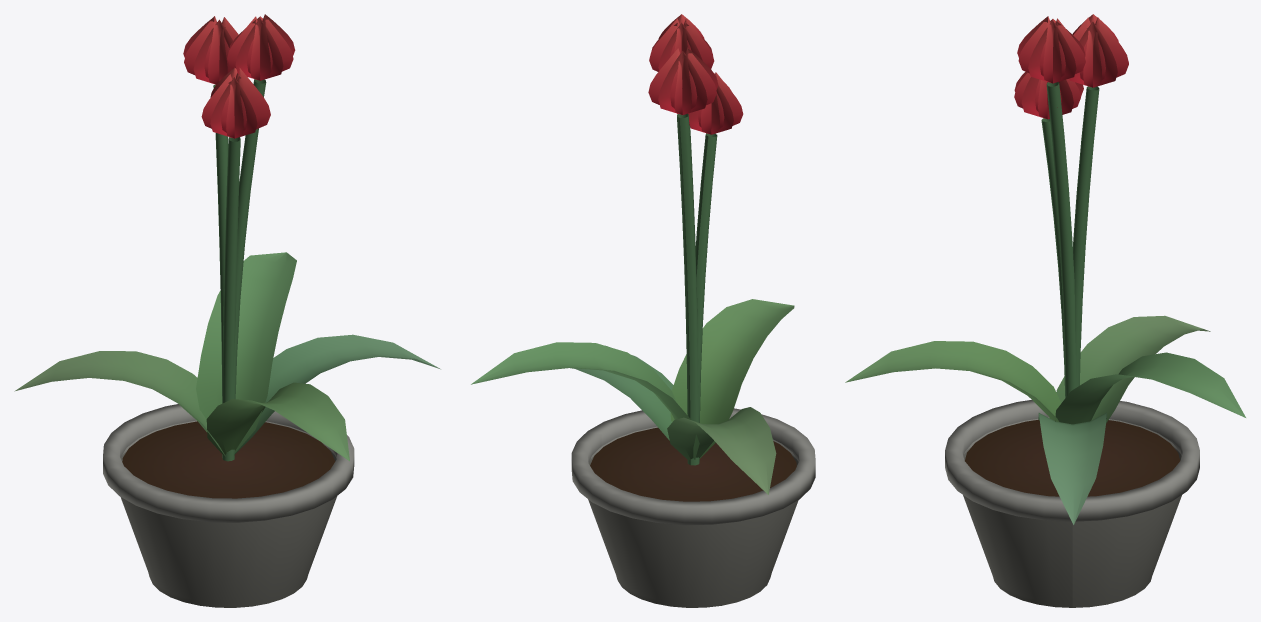
Rendered from tulipa.glb.
The picture shows the model from 3 angles, left to right: view 1: azimuth 30°, elevation 25°; view 2: azimuth 150°, elevation 25°; view 3: azimuth 270°, elevation 25°; orthographic projection. The views are drawn at different scales.
Visible parts, largest first — view 1: tulipa; view 2: tulipa; view 3: tulipa.
Boxes of the visible parts, bbox=[...] form: tulipa: bbox=[14, 14, 440, 607]; tulipa: bbox=[471, 14, 815, 607]; tulipa: bbox=[845, 14, 1245, 607].
Size of the model in its own units: 0.262 by 0.3922 by 0.2506.
